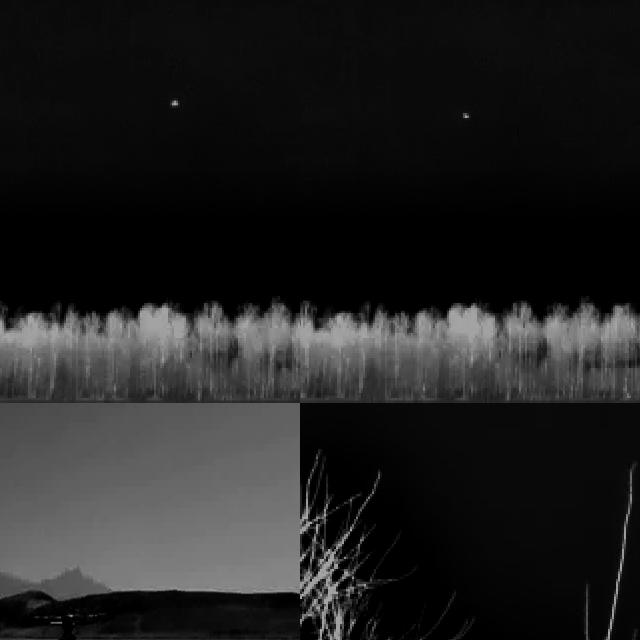1: (455, 102, 487, 136), (165, 92, 193, 122)
drone: (35, 612, 105, 640)
